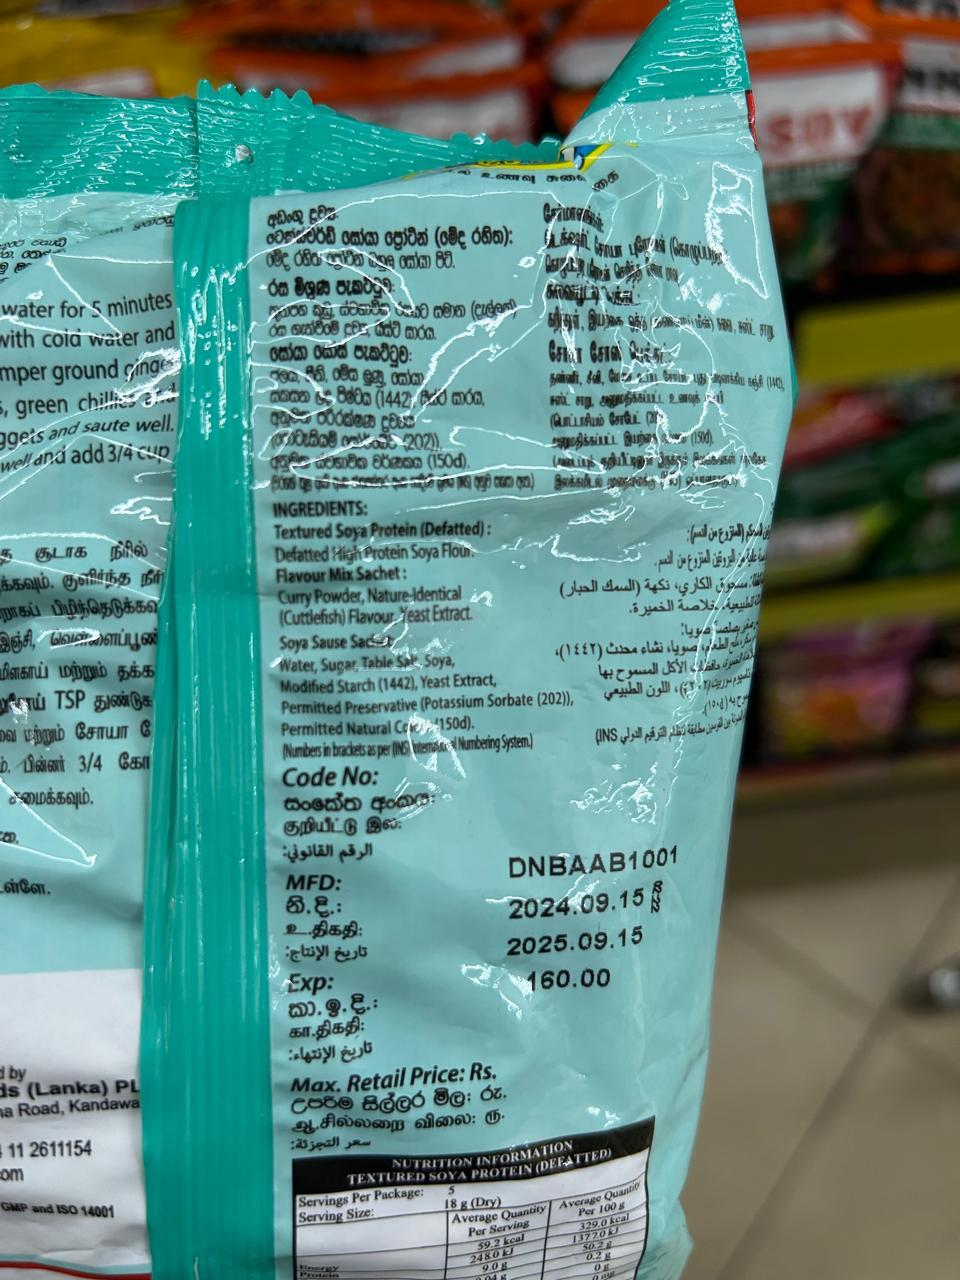ingredients: (243, 488, 589, 800)
